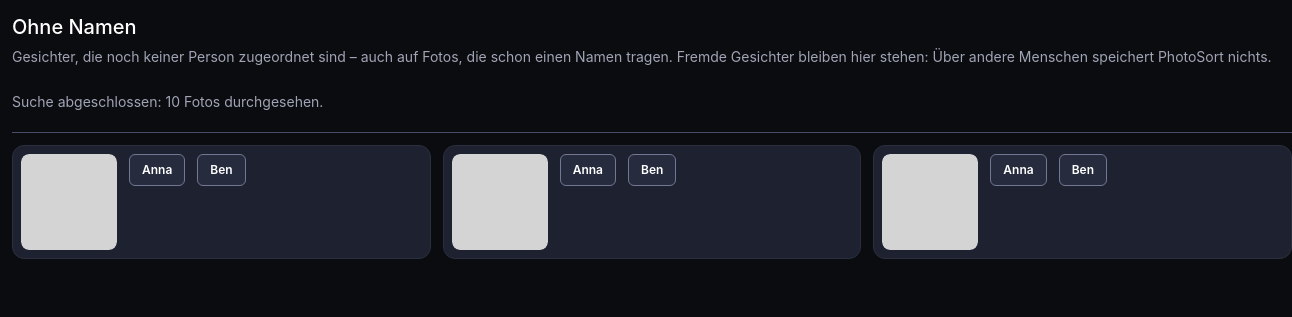
it: UnnamedFacesGroup - Ablehnungen › lässt die Karte stehen und zeigt "Dieses Gesicht gehört auf diesem Foto schon der anderen Person." ohne Namen
Click the button with aria-label "Zuordnen: Anna" at x=157, y=170, box left=129, top=154, right=185, bottom=186
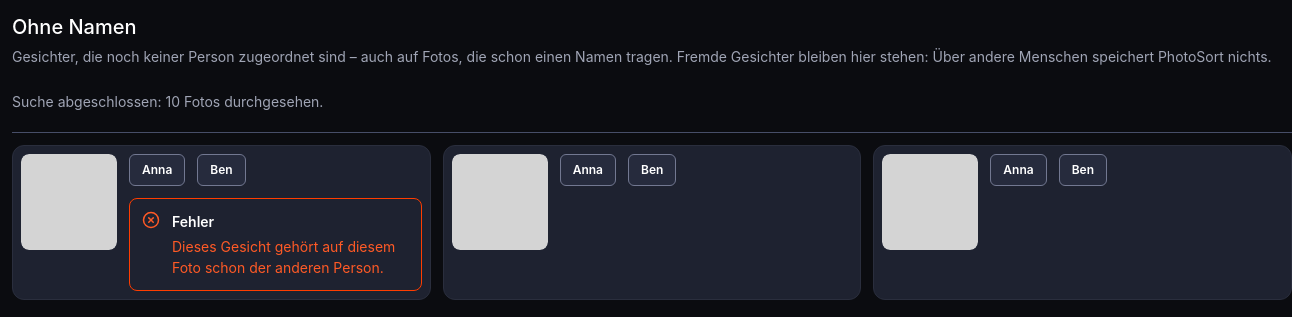
Result: the message shows "Dieses Gesicht gehört auf diesem Foto schon der anderen Person." at left=172, top=238, right=395, bottom=276
